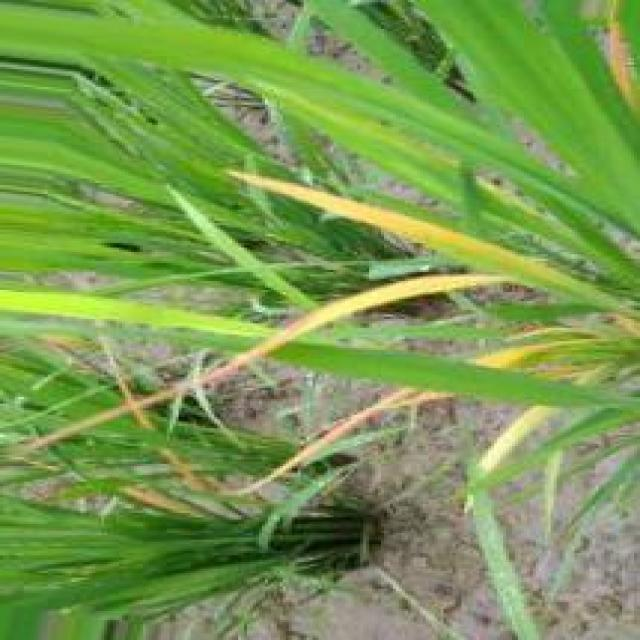Rice Tungro: (229, 172, 619, 309), (206, 275, 509, 386), (234, 387, 452, 496), (477, 406, 553, 473)
